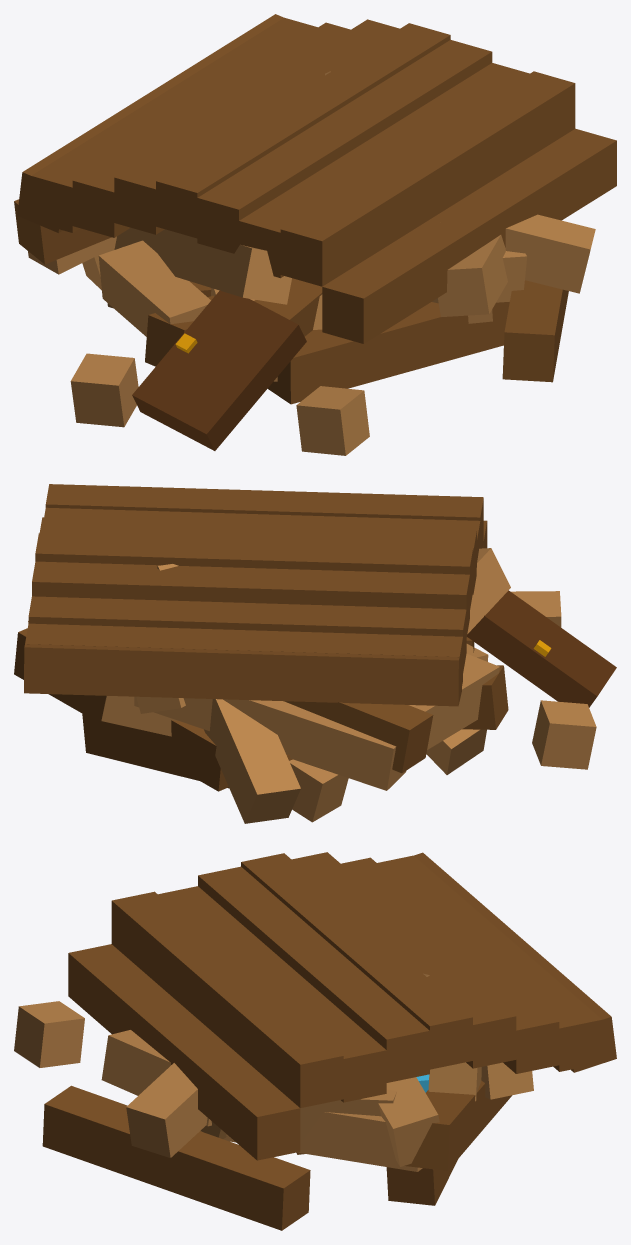
The model's file is house Break - コピー.fbx.
3 views of the same model, one above another, from view 1: azimuth 30°, elevation 25°; view 2: azimuth 150°, elevation 25°; view 3: azimuth 270°, elevation 25° (orthographic). The views are drawn at different scales.
Parts seen in each view (by area): view 1: 立方体.039; view 2: 立方体.039; view 3: 立方体.039.
Boxes of the visible parts, box(x1,y1,x2,y2) form: 立方体.039: box(14, 14, 616, 455); 立方体.039: box(14, 484, 616, 823); 立方体.039: box(14, 852, 616, 1230).
Size of the model in its own units: 25.54 by 10.26 by 25.13.
